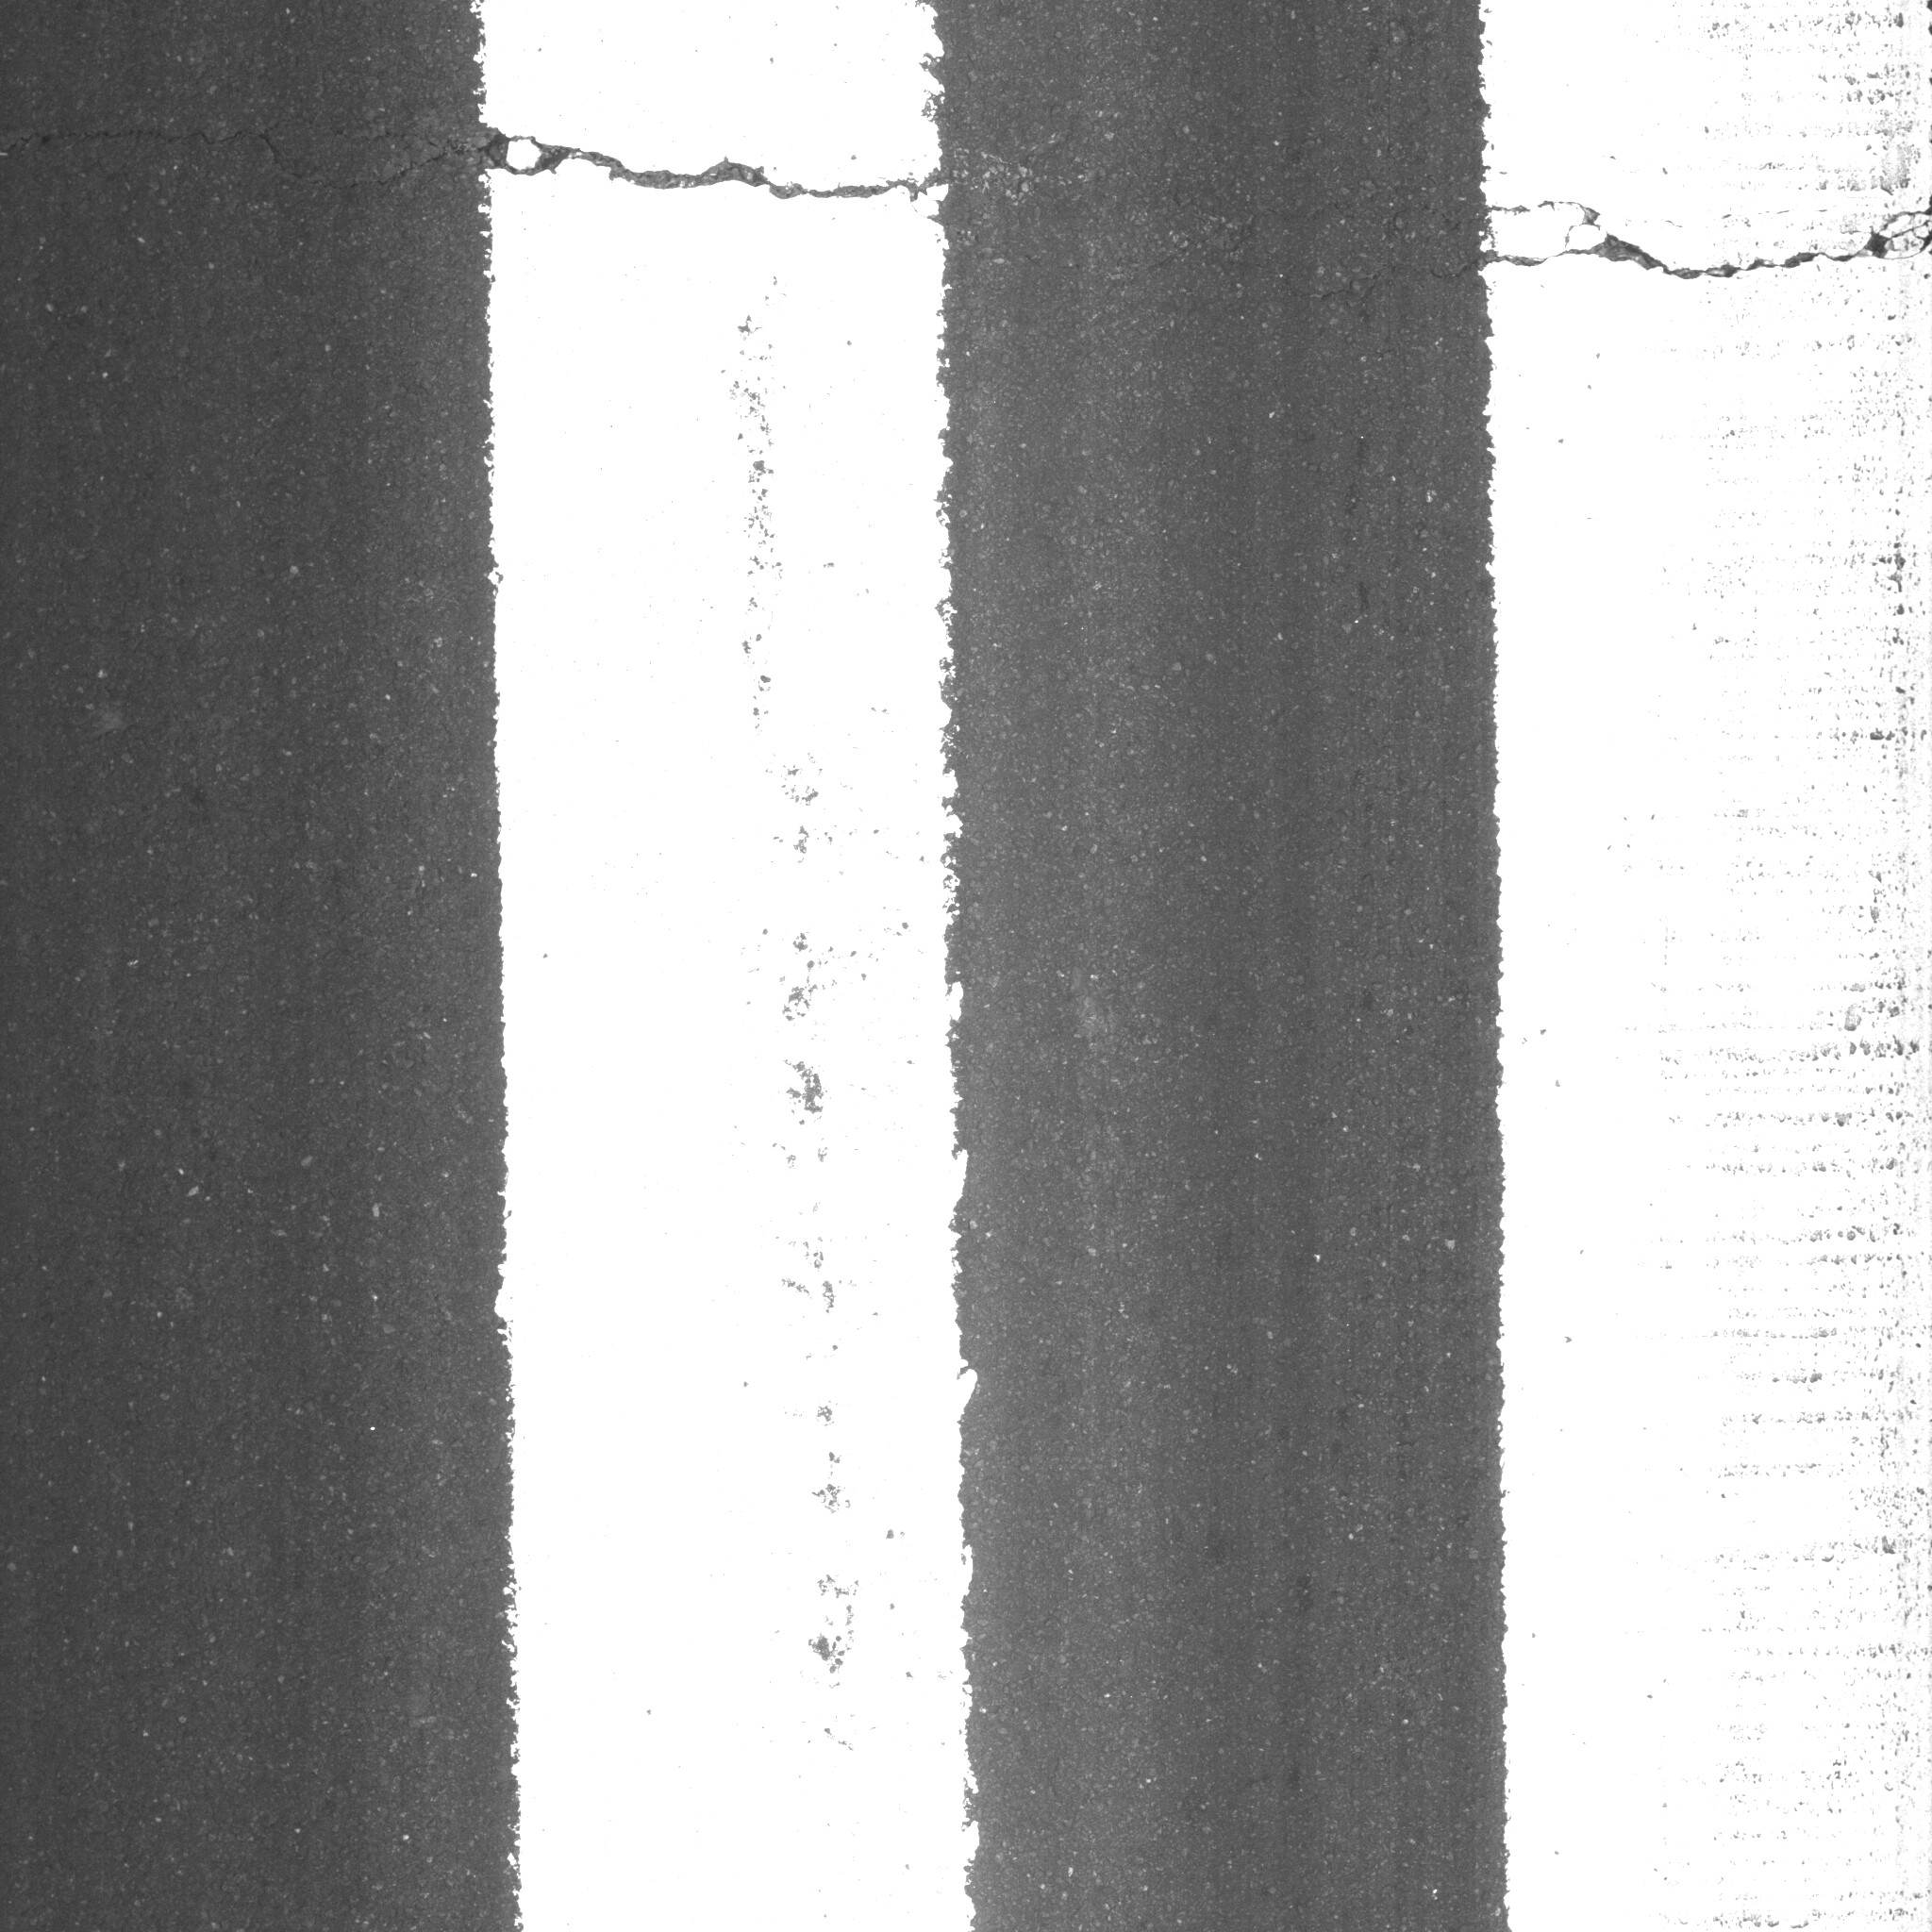transverse: (23, 73, 1932, 324)
